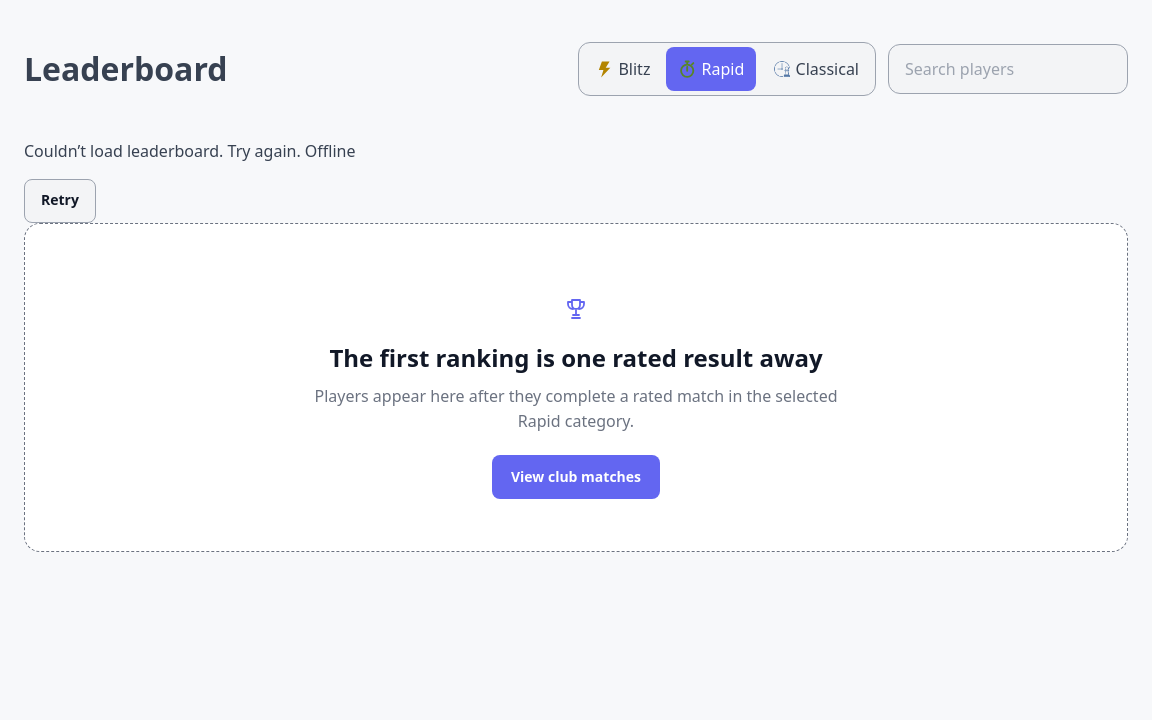
LeaderboardPage URL state › retries a failed leaderboard request without losing the category
This screenshot has width=1152, height=720.
Expected: the message shows "Offline", [305, 140, 356, 162]
Click the button "Retry" at [60, 201], box [24, 179, 96, 223]
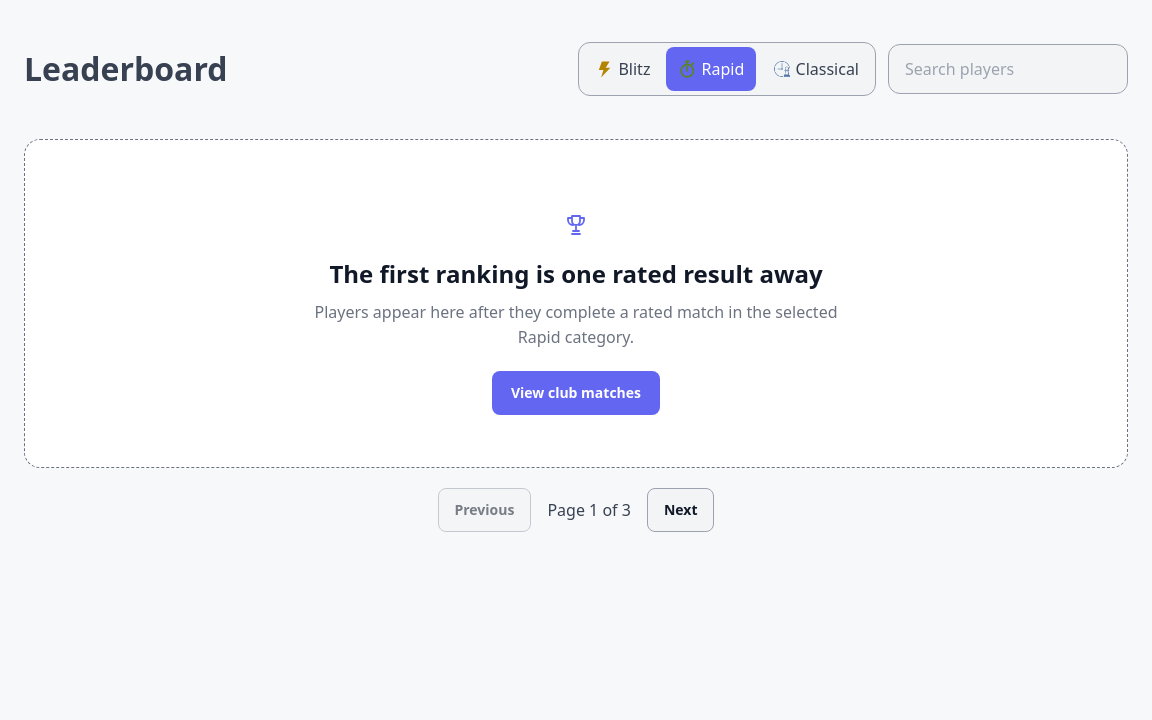
Result: the message "Couldn’t load leaderboard. Try again. Offline Retry" is gone
